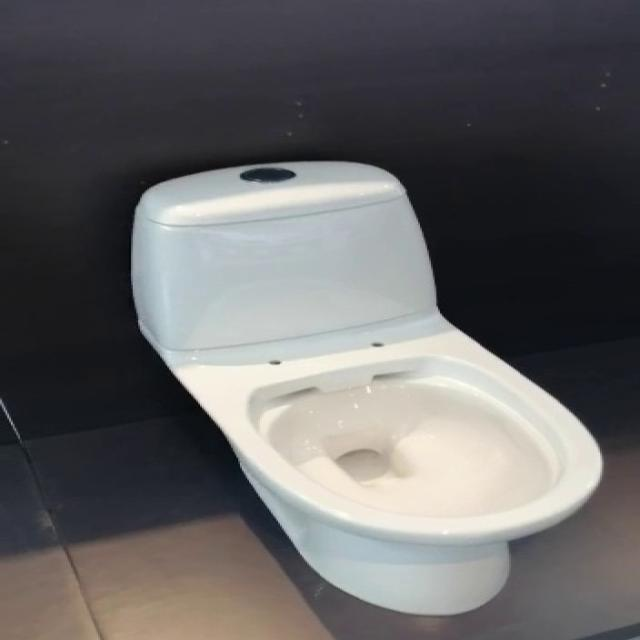toilet: (129, 158, 604, 616)
